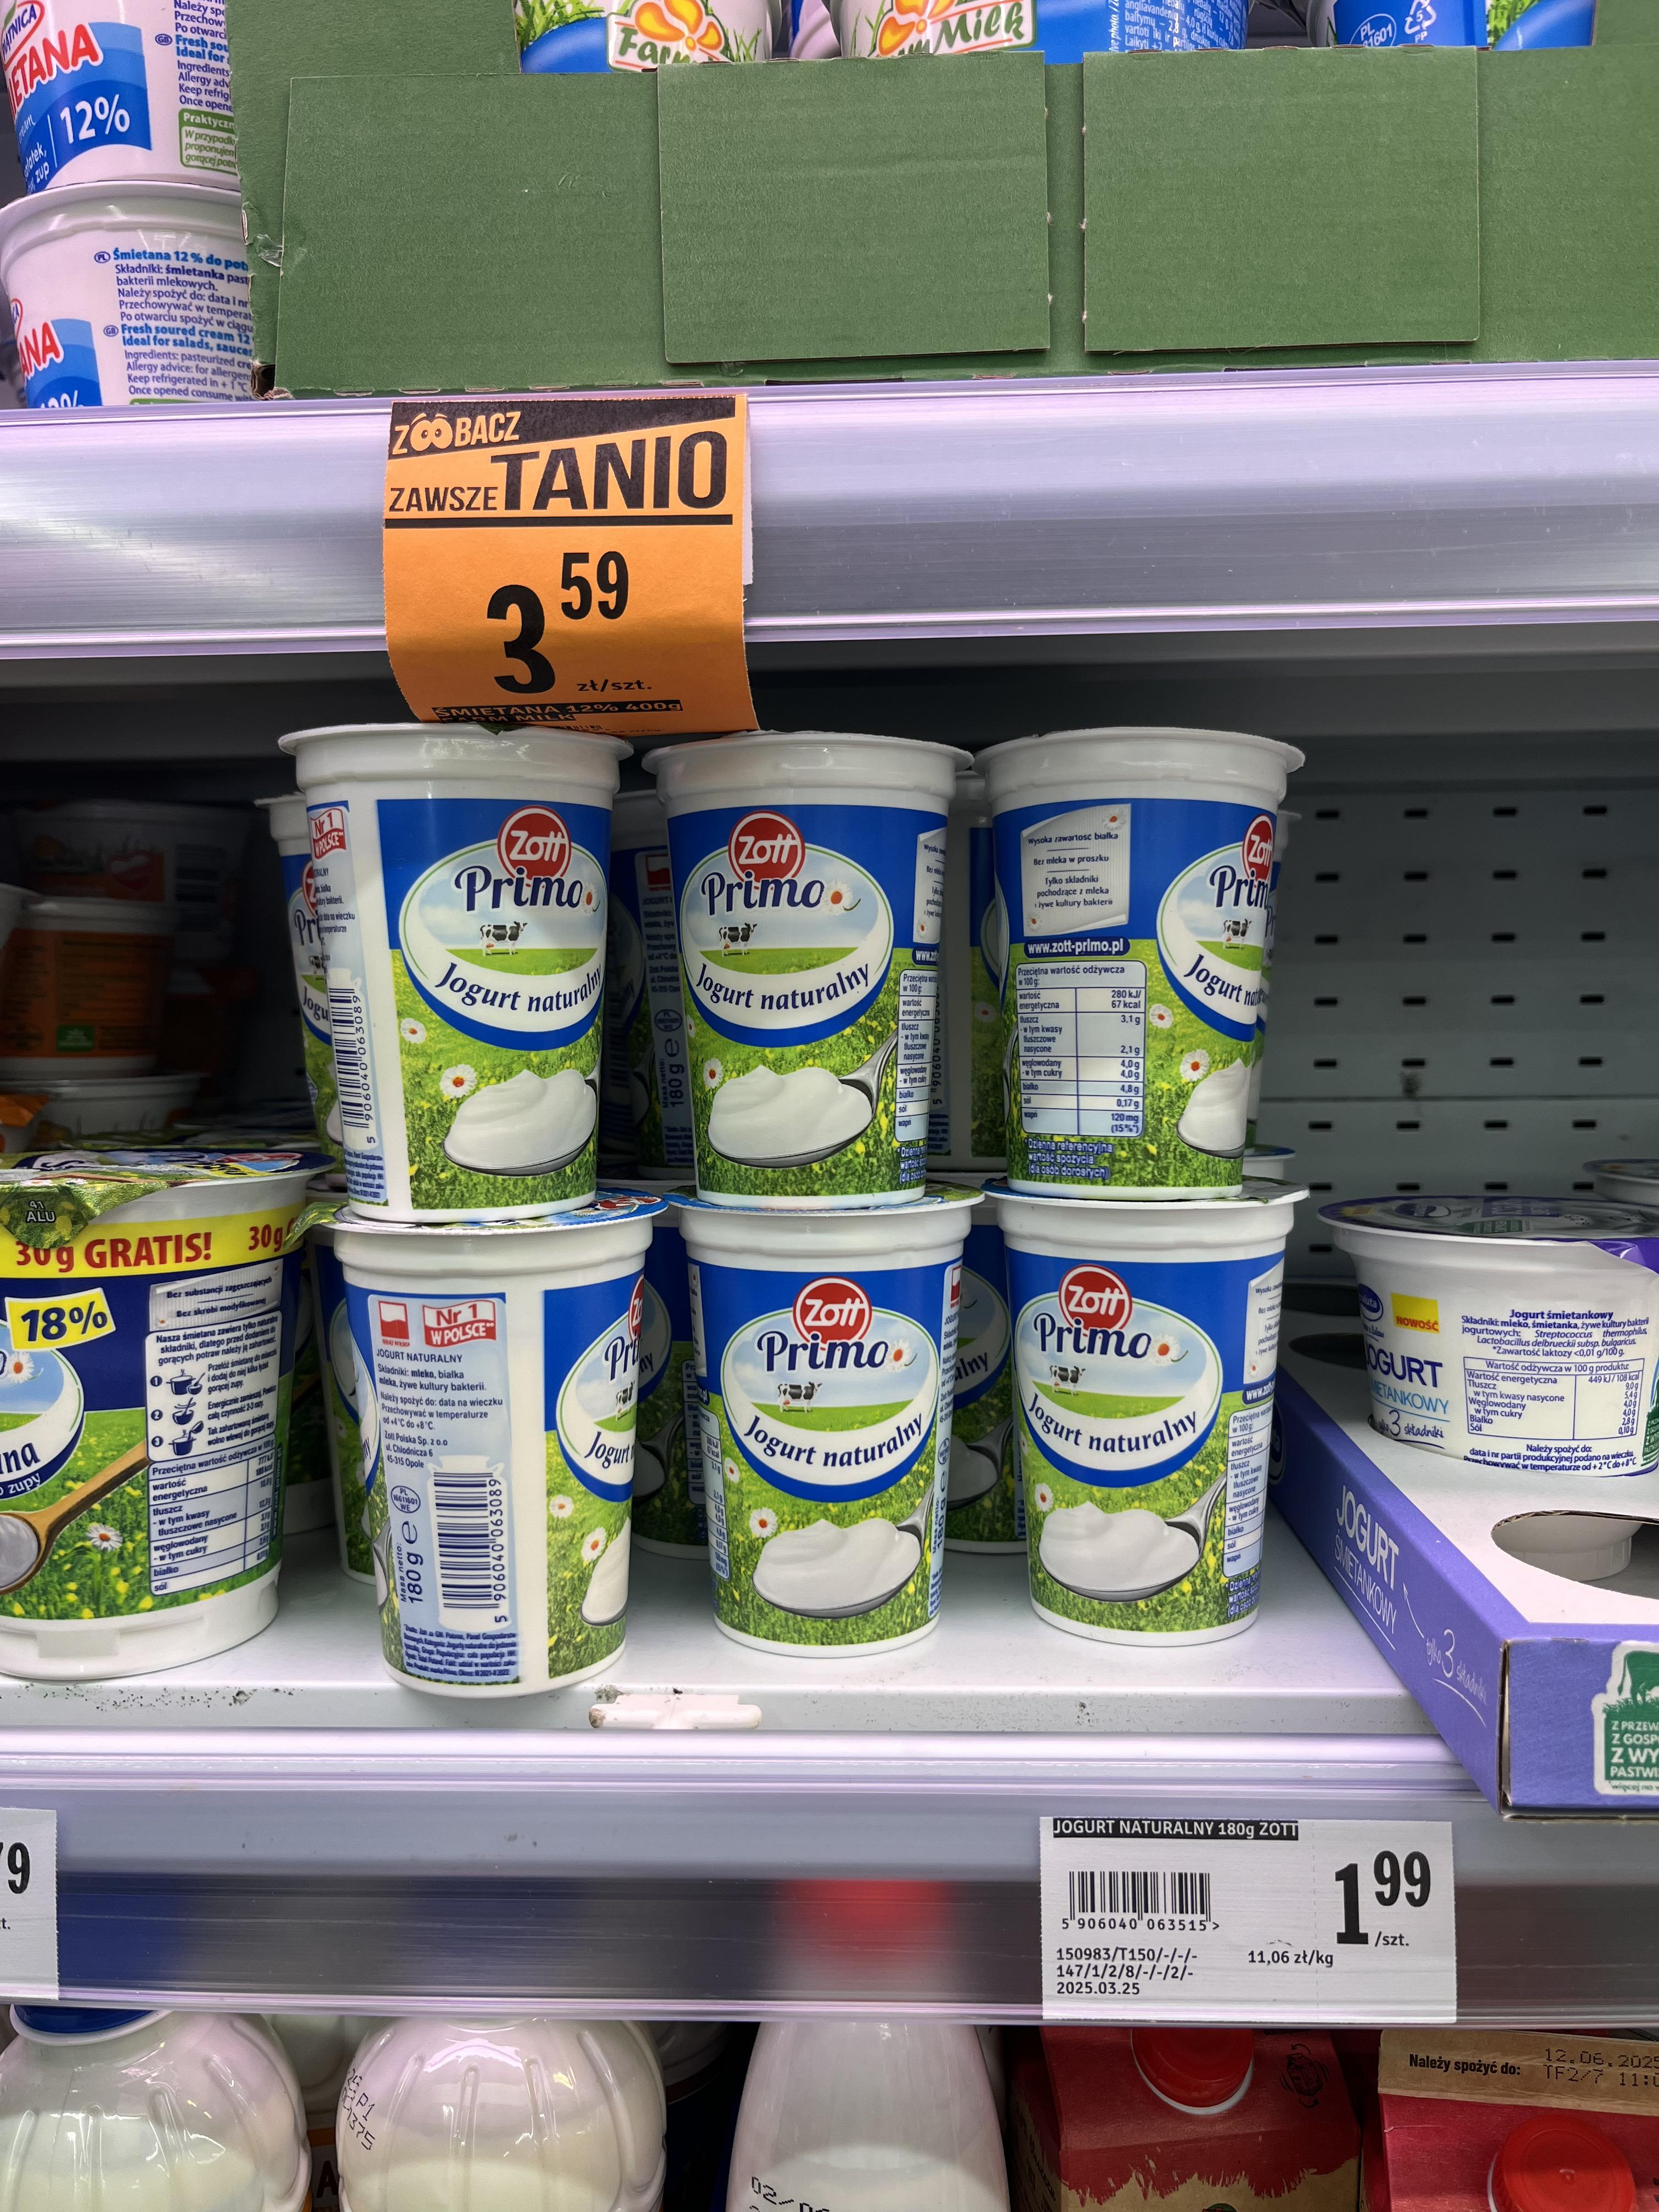Yogurt: (336, 1221, 674, 1695), (307, 723, 606, 1197), (988, 728, 1291, 1190), (669, 721, 945, 1200), (1016, 1186, 1291, 1642), (687, 1202, 955, 1642)
